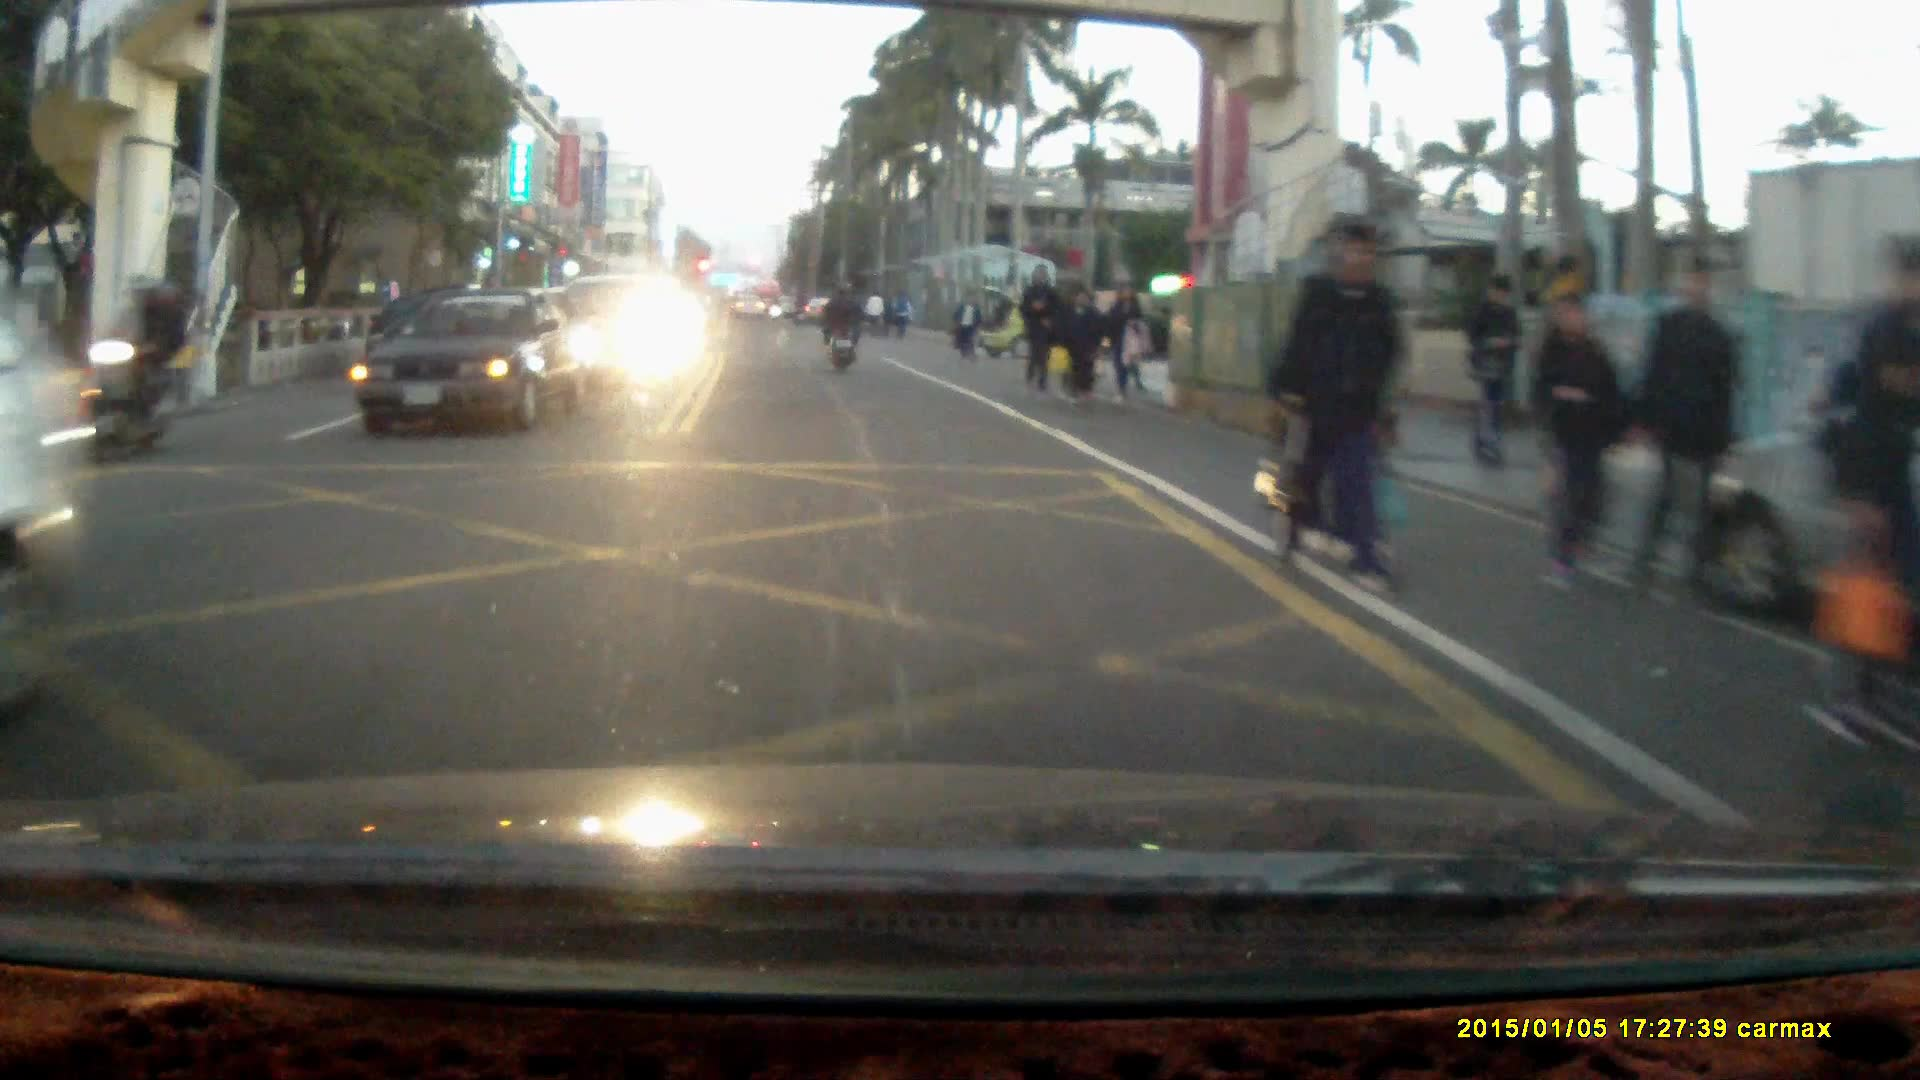pedestrian: (1803, 235, 1920, 765), (1284, 222, 1402, 601), (1638, 256, 1737, 617), (1538, 294, 1637, 610), (1464, 275, 1523, 481), (1016, 264, 1061, 402), (1101, 278, 1150, 408), (1057, 287, 1103, 407), (953, 290, 978, 362)
rider: (71, 269, 187, 467), (819, 282, 861, 376)
vehicle: (1685, 376, 1920, 637), (347, 299, 599, 444)
